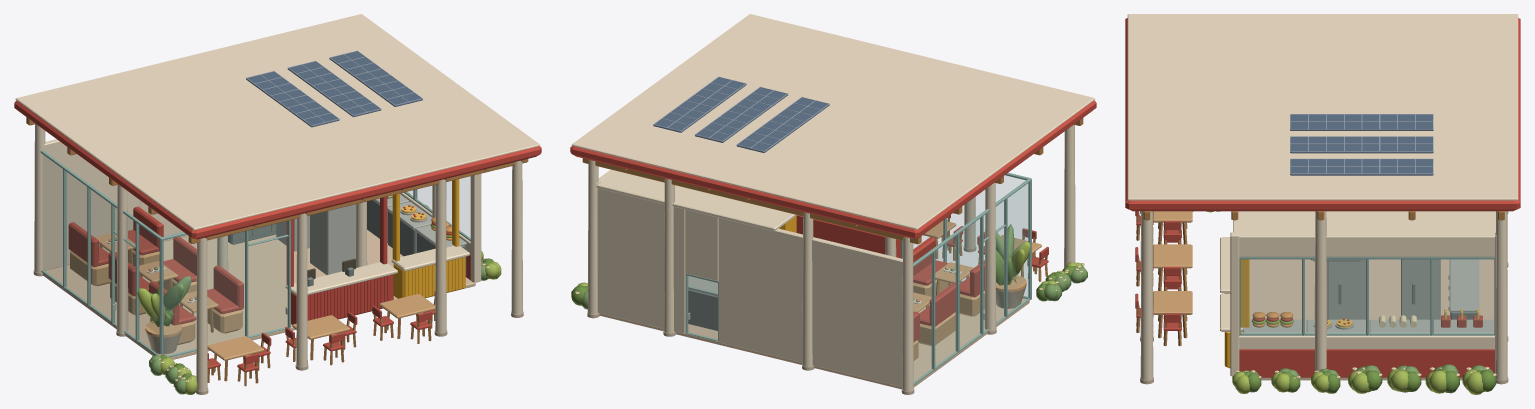
Rendered from 27-B-27ceaa4a12b9.glb.
3 renders of one model, left to right at view 1: azimuth 30°, elevation 25°; view 2: azimuth 150°, elevation 25°; view 3: azimuth 270°, elevation 25°, orthographic. The views are drawn at different scales.
Parts seen in each view (by area): view 1: R 奶油白屋面, A 就餐亭西侧玻璃, A 就餐亭前窗, A 奶油色网格圆柱, S 室内餐区地面, I 点餐与取餐窗口, I 桌椅 · 木工与软垫, A 后场围护, R 光伏板与压条, R 红檐口薄屋顶, I 红色堂食卡座, I 冷柜 (+9 smaller); view 2: R 奶油白屋面, A 后场围护, A 就餐亭西侧玻璃, A 奶油色网格圆柱, R 光伏板与压条, R 红檐口薄屋顶, A 就餐亭前窗, R 服务区低平顶, S 室内餐区地面, I 红色堂食卡座, I 桌椅 · 木工与软垫, D 后场服务门 (+7 smaller); view 3: R 奶油白屋面, A 侧向制作展示窗, A 厨房背墙与基座, R 光伏板与压条, S 室内餐区地面, A 奶油色网格圆柱, R 服务区低平顶, R 红檐口薄屋顶, L 地被与灌丛, I 桌椅 · 木工与软垫, I 冷柜, I 橱柜与工作台 (+7 smaller).
Part boxes in pixels (box(x1,y1,x2,y2)): R 奶油白屋面: box(15, 14, 540, 230); A 就餐亭西侧玻璃: box(40, 150, 163, 355); A 就餐亭前窗: box(161, 220, 290, 357); A 奶油色网格圆柱: box(34, 124, 522, 391); S 室内餐区地面: box(43, 230, 475, 359); I 点餐与取餐窗口: box(285, 179, 469, 324); I 桌椅 · 木工与软垫: box(95, 233, 435, 386); A 后场围护: box(43, 139, 187, 270); R 光伏板与压条: box(246, 51, 422, 127); R 红檐口薄屋顶: box(14, 100, 541, 239); I 红色堂食卡座: box(68, 206, 243, 325); I 冷柜: box(276, 204, 355, 274); R 奶油白屋面: box(571, 14, 1095, 229); A 后场围护: box(597, 188, 902, 386); A 就餐亭西侧玻璃: box(913, 178, 1031, 384); A 奶油色网格圆柱: box(587, 125, 1075, 391); R 光伏板与压条: box(653, 77, 829, 152); R 红檐口薄屋顶: box(570, 100, 1096, 238); A 就餐亭前窗: box(901, 172, 1030, 299); R 服务区低平顶: box(596, 170, 796, 231); S 室内餐区地面: box(599, 283, 1029, 389); I 红色堂食卡座: box(913, 237, 984, 342); I 桌椅 · 木工与软垫: box(913, 215, 1048, 311); D 后场服务门: box(685, 273, 718, 341); R 奶油白屋面: box(1127, 14, 1518, 200); A 侧向制作展示窗: box(1239, 257, 1494, 335); A 厨房背墙与基座: box(1239, 234, 1494, 377); R 光伏板与压条: box(1290, 114, 1433, 175); S 室内餐区地面: box(1249, 259, 1494, 380); A 奶油色网格圆柱: box(1140, 211, 1507, 380); R 服务区低平顶: box(1233, 211, 1495, 234); R 红檐口薄屋顶: box(1125, 18, 1520, 211); L 地被与灌丛: box(1193, 211, 1496, 394); I 桌椅 · 木工与软垫: box(1135, 211, 1192, 346); I 冷柜: box(1327, 259, 1440, 319); I 橱柜与工作台: box(1243, 259, 1493, 332).
Bounding box in the file's own units: 21.96 × 10.08 × 18.78.
